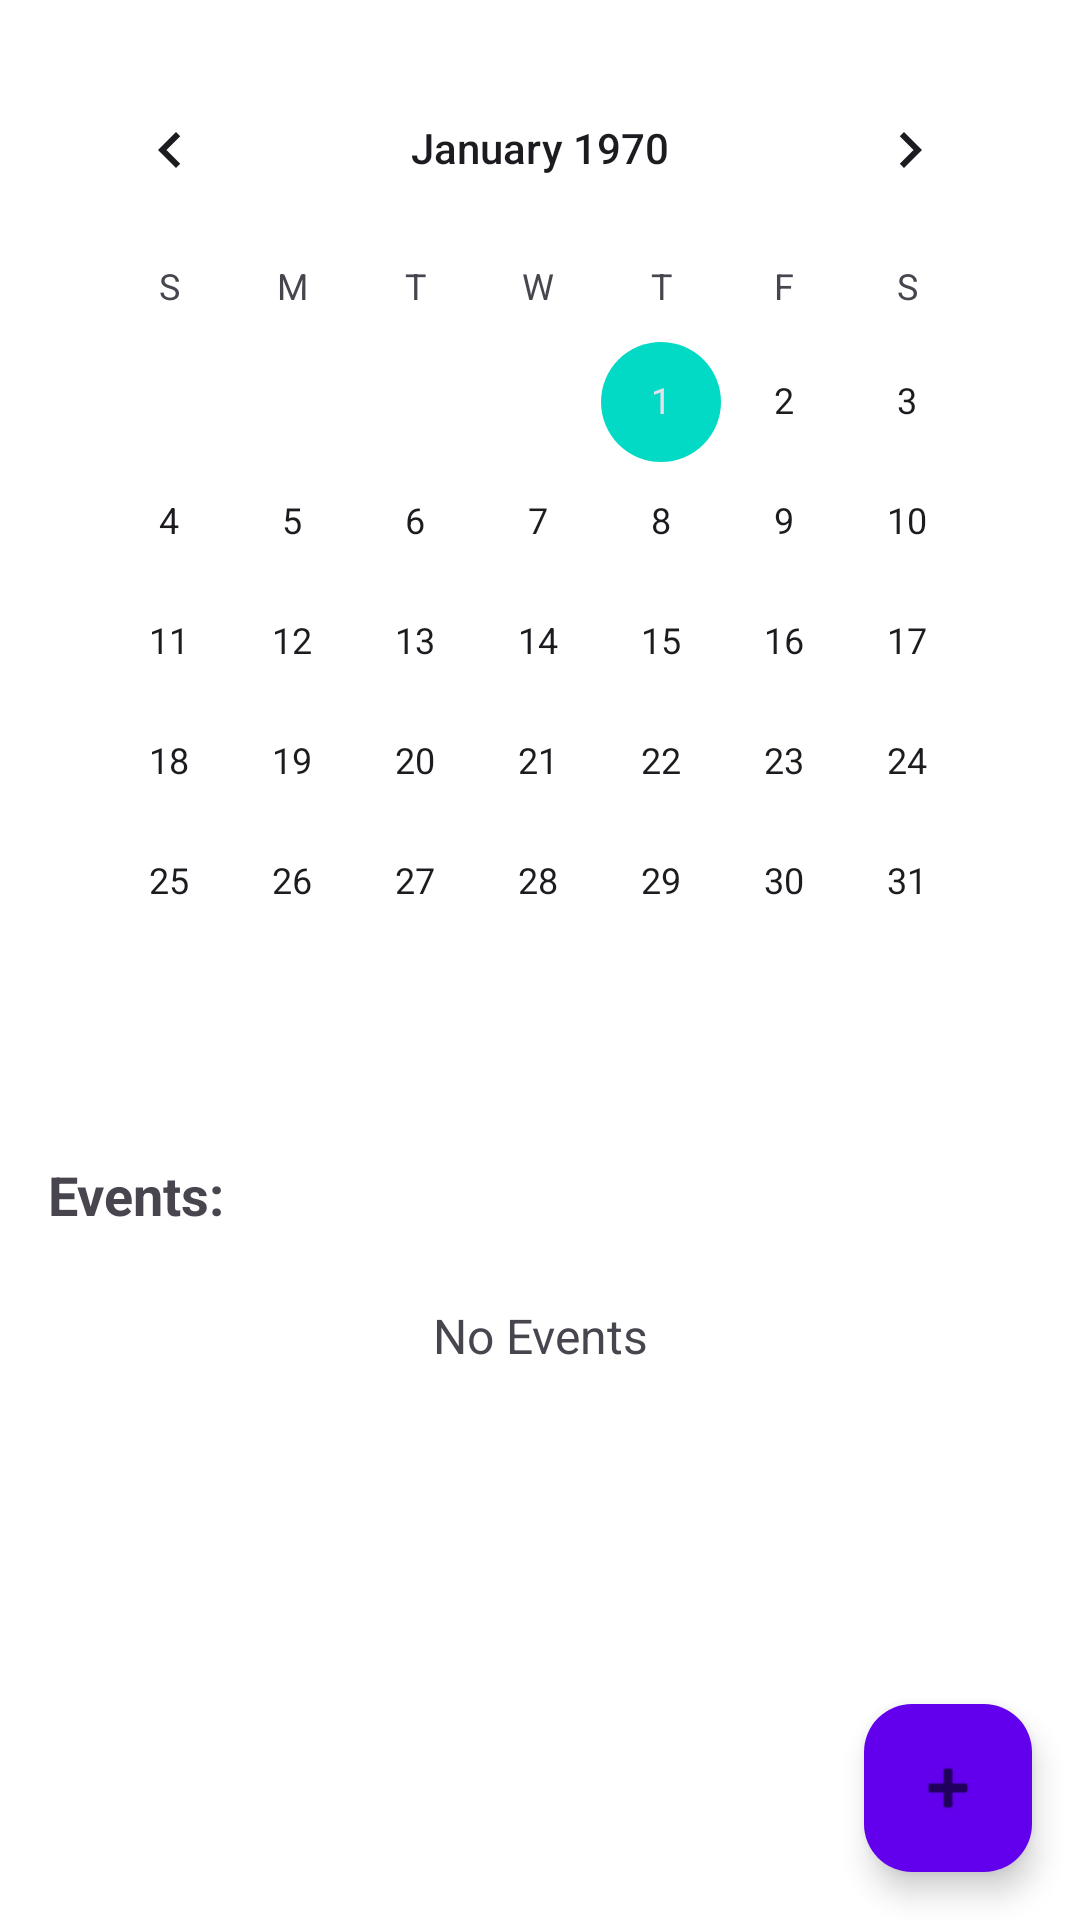

Locate icon controls on the screen. Image size 1080px×1920px, boxes as [x1=x1, y1=y1, x2=x2, y2=y2].
Add Event: [x1=864, y1=1704, x2=1032, y2=1872]
